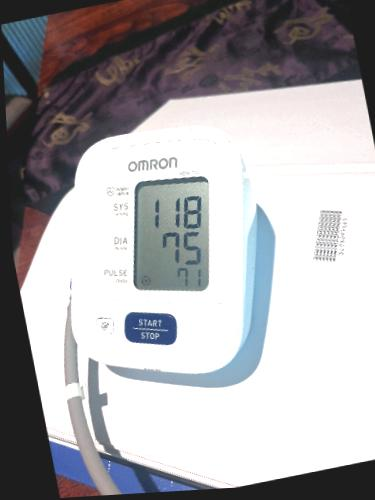bpm: (132, 176, 208, 290)
